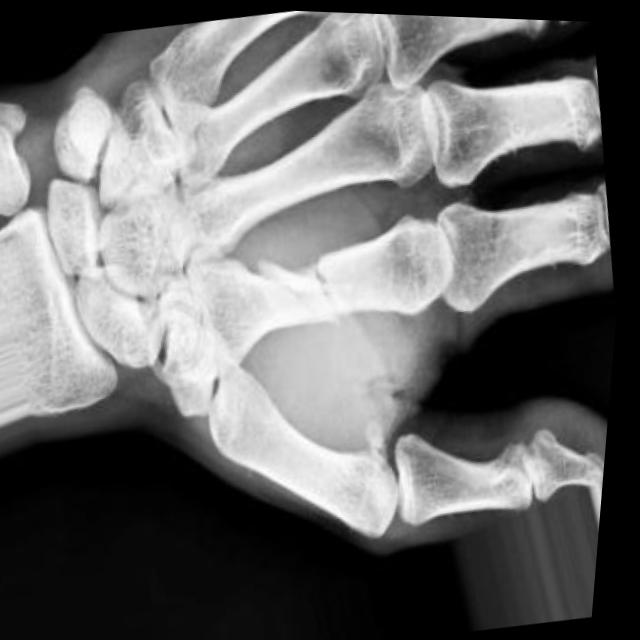fracture: (246, 223, 365, 343)
